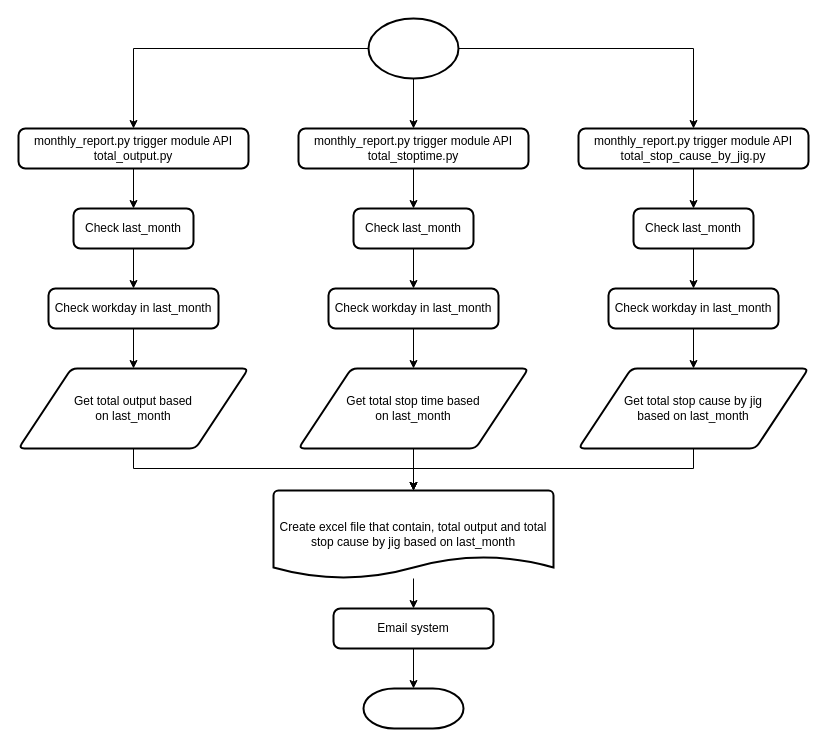
This 826x746 diagram has some shape labels left out. Here are the shapes that lost their labels. From the top down, the box of each, then its label:
(367, 17, 459, 79): START
(362, 687, 464, 729): END
